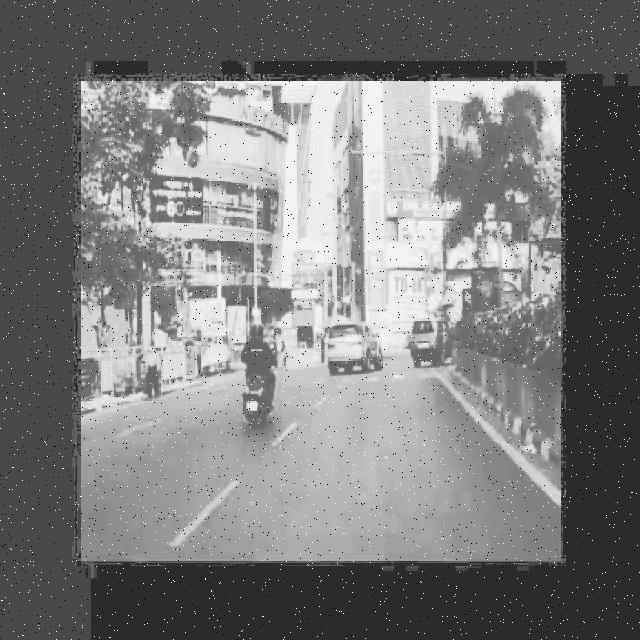Car: (320, 315, 392, 378), (408, 306, 450, 369)
